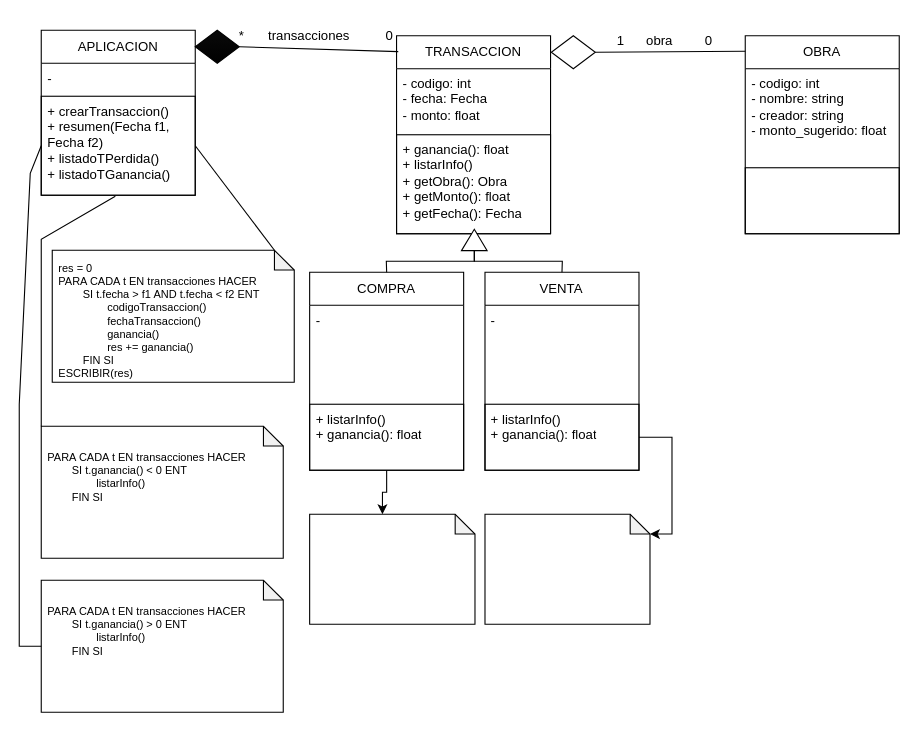
The diagram is 919 pixels wide and 732 high, and some of its shapes have lost their labels. The shapes that lost their labels are listed below. From the top down, each one's centre as x and y in pixels, then its label:
the point at 821,200: + listarInfo()
the point at 392,568: res = monto_sugerido - precio RETORNA res
the point at 567,568: res = precio - monto_sugerido RETORNA res
